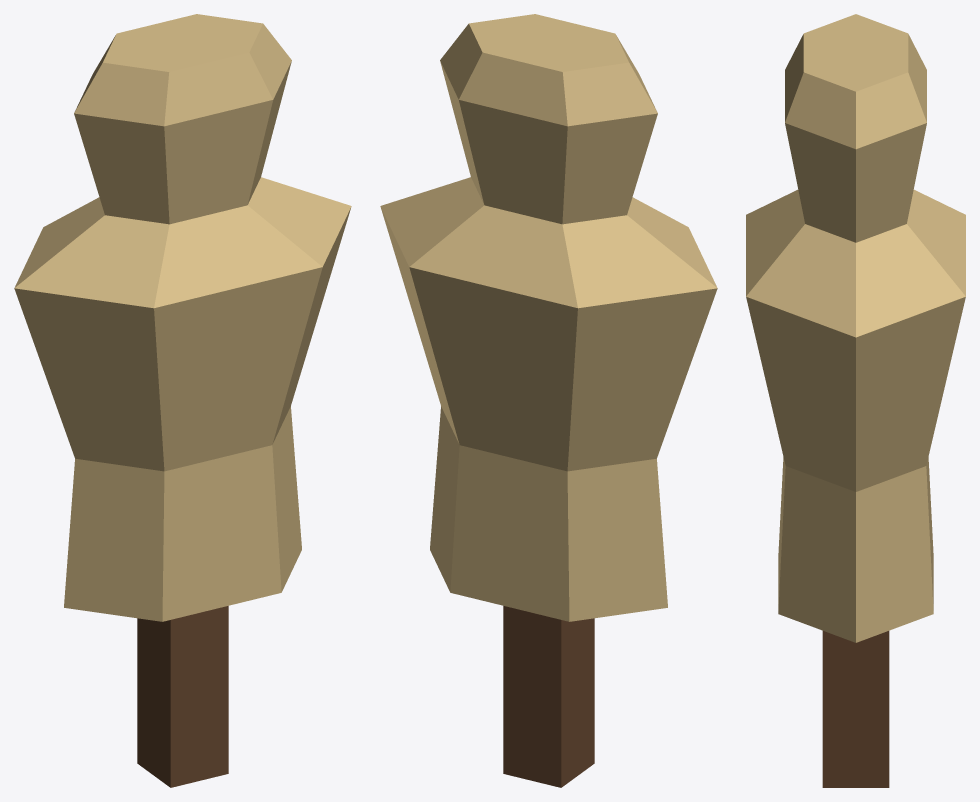
File: Dummy_mat.fbx
3 renders of one model, left to right at view 1: azimuth 30°, elevation 25°; view 2: azimuth 150°, elevation 25°; view 3: azimuth 270°, elevation 25°, orthographic.
Visible parts, largest first — view 1: Dummy_mat; view 2: Dummy_mat; view 3: Dummy_mat.
Boxes of the visible parts, x1,y1,x2,y2 form: Dummy_mat: (14, 14, 351, 787); Dummy_mat: (380, 14, 717, 787); Dummy_mat: (746, 14, 965, 787).
Bounding box in the file's own units: 44.84 × 92.14 × 25.48.
